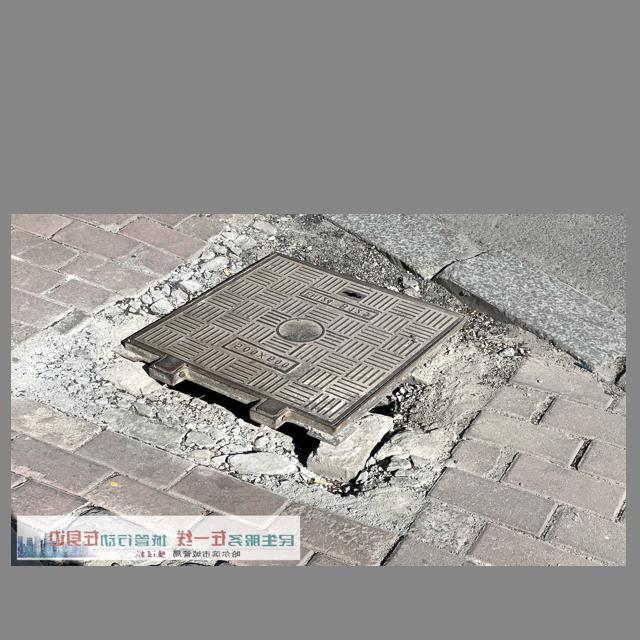circle: (45, 249, 530, 495)
